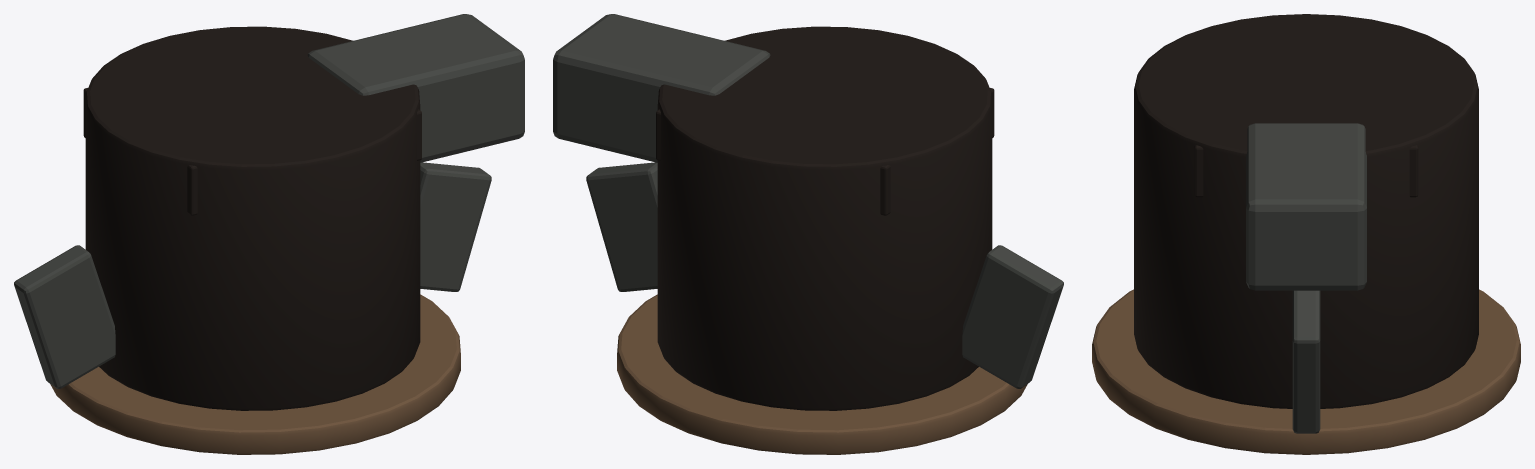
The model's file is ceiling_light_premium_single.glb.
3 renders of one model, left to right at view 1: azimuth 30°, elevation 25°; view 2: azimuth 150°, elevation 25°; view 3: azimuth 270°, elevation 25°, orthographic. The views are drawn at different scales.
Parts seen in each view (by area): view 1: Downlight_01_RoughInHousing, BATCH_Root_Premium_DarkBronze, Downlight_01_JunctionBox, Downlight_01_SpringClip_Left, Downlight_01_SpringClip_Right, Downlight_01; view 2: Downlight_01_RoughInHousing, BATCH_Root_Premium_DarkBronze, Downlight_01_JunctionBox, Downlight_01_SpringClip_Left, Downlight_01_SpringClip_Right, Downlight_01; view 3: Downlight_01_RoughInHousing, BATCH_Root_Premium_DarkBronze, Downlight_01_JunctionBox, Downlight_01_SpringClip_Right, Downlight_01.
Boxes of the visible parts, <box> form: Downlight_01_RoughInHousing: <box>85,26,420,410</box>; BATCH_Root_Premium_DarkBronze: <box>50,294,460,454</box>; Downlight_01_JunctionBox: <box>307,14,524,162</box>; Downlight_01_SpringClip_Left: <box>14,245,115,388</box>; Downlight_01_SpringClip_Right: <box>420,162,491,291</box>; Downlight_01: <box>83,88,421,215</box>; Downlight_01_RoughInHousing: <box>657,26,992,410</box>; BATCH_Root_Premium_DarkBronze: <box>617,294,1027,454</box>; Downlight_01_JunctionBox: <box>553,14,770,162</box>; Downlight_01_SpringClip_Left: <box>962,245,1063,388</box>; Downlight_01_SpringClip_Right: <box>586,162,657,291</box>; Downlight_01: <box>656,88,994,215</box>; Downlight_01_RoughInHousing: <box>1134,14,1478,408</box>; BATCH_Root_Premium_DarkBronze: <box>1092,289,1520,454</box>; Downlight_01_JunctionBox: <box>1246,123,1366,290</box>; Downlight_01_SpringClip_Right: <box>1292,290,1320,433</box>; Downlight_01: <box>1194,145,1418,197</box>.
Size of what is drawn, in the model's own units: 0.2447 by 0.1497 by 0.184.
